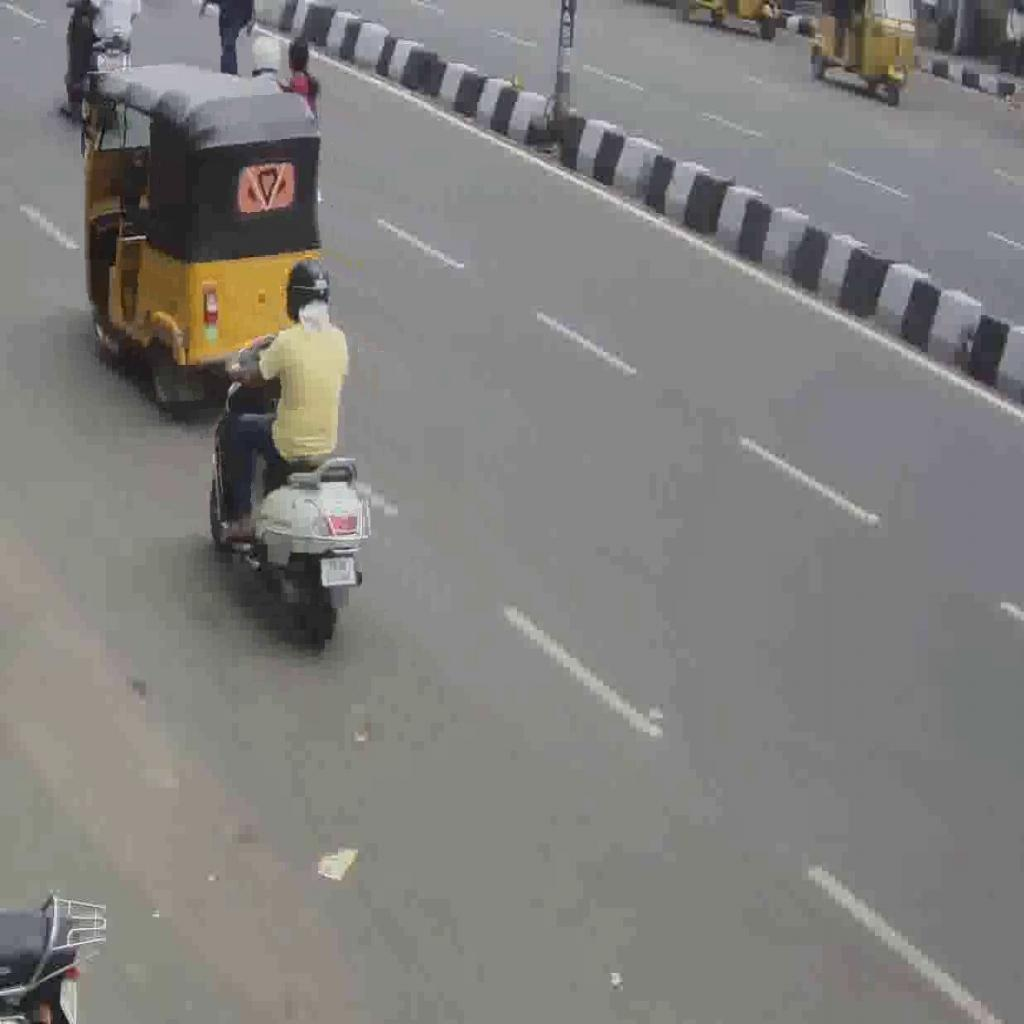helmet: (206, 338, 368, 654)
